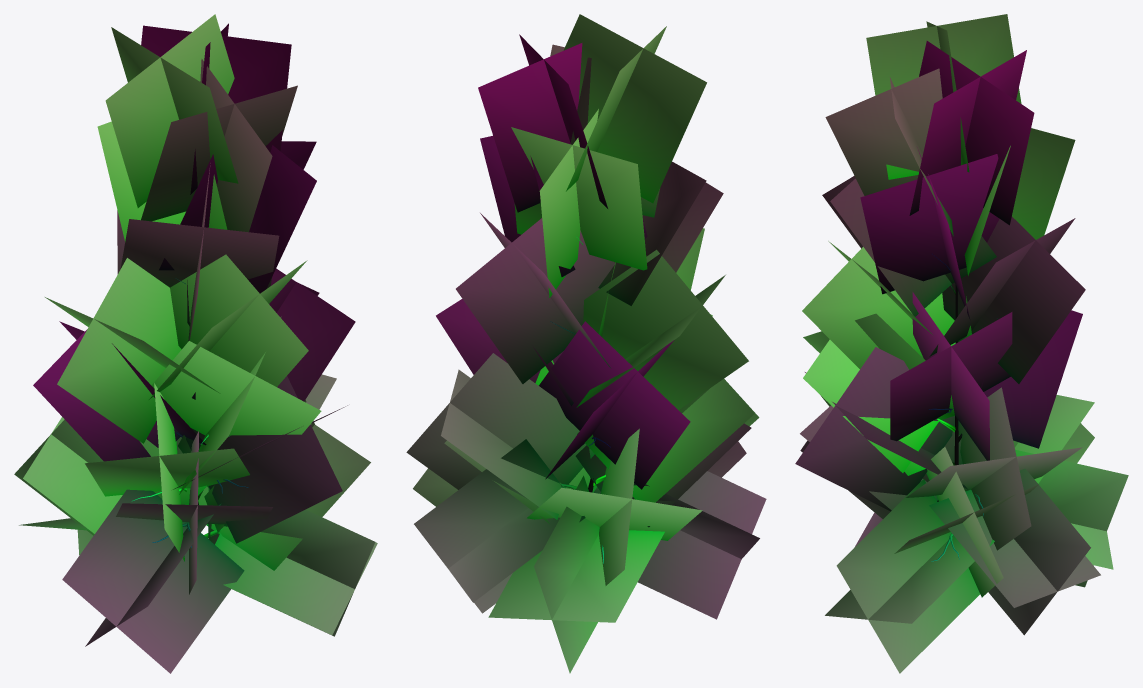
File: M_P1_Tree_20.fbx
3 views of the same model, side by side, from view 1: azimuth 30°, elevation 25°; view 2: azimuth 150°, elevation 25°; view 3: azimuth 270°, elevation 25° (orthographic). The views are drawn at different scales.
Visible parts, largest first — view 1: M_Tree_1_20; view 2: M_Tree_1_20; view 3: M_Tree_1_20.
Part boxes in pixels (bbox=[...]): M_Tree_1_20: bbox=[14, 14, 377, 673]; M_Tree_1_20: bbox=[406, 14, 766, 673]; M_Tree_1_20: bbox=[795, 14, 1128, 673].
Bounding box in the file's own units: 659 × 1260 × 636.
